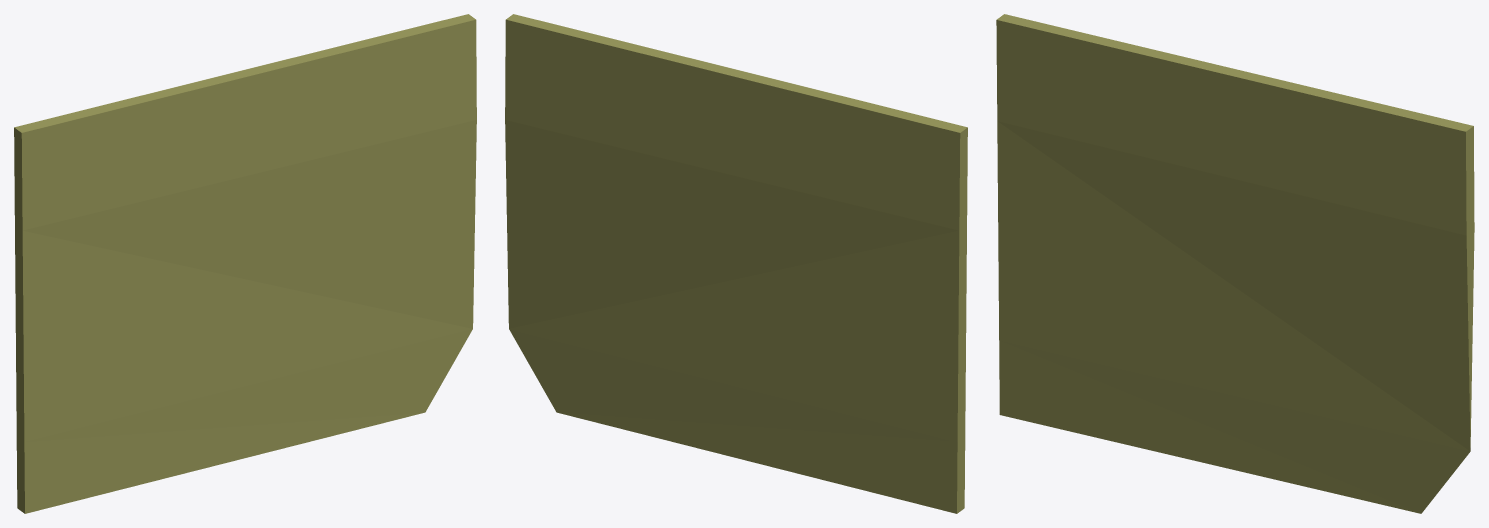
The model's file is OBJ_PCB_S.C.I-BIAS_2.obj.
The picture shows the model from 3 angles, left to right: view 1: azimuth 30°, elevation 25°; view 2: azimuth 150°, elevation 25°; view 3: azimuth 330°, elevation 25°; orthographic projection. The views are drawn at different scales.
Size of the model in its own units: 341 by 275 by 10.
